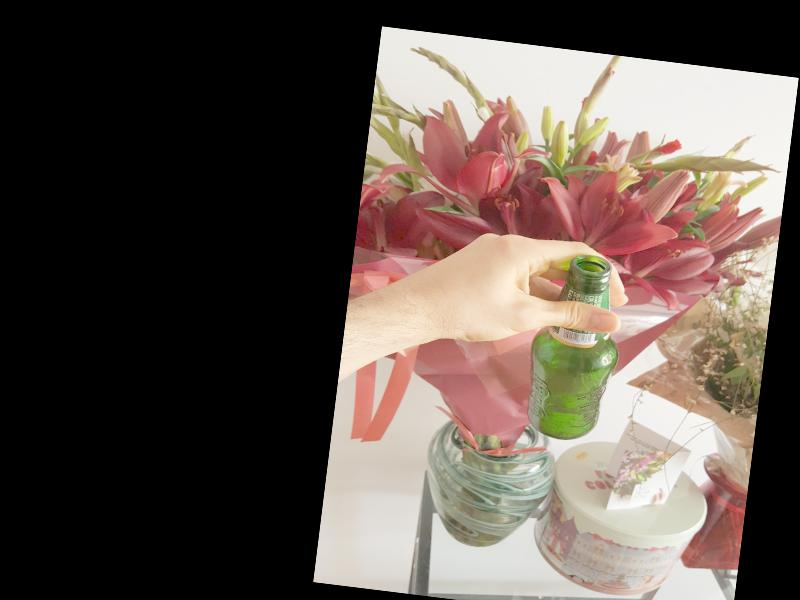Beer: (523, 251, 629, 445)
